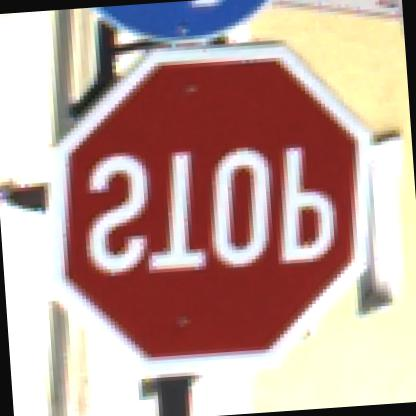stop: (38, 32, 390, 385)
